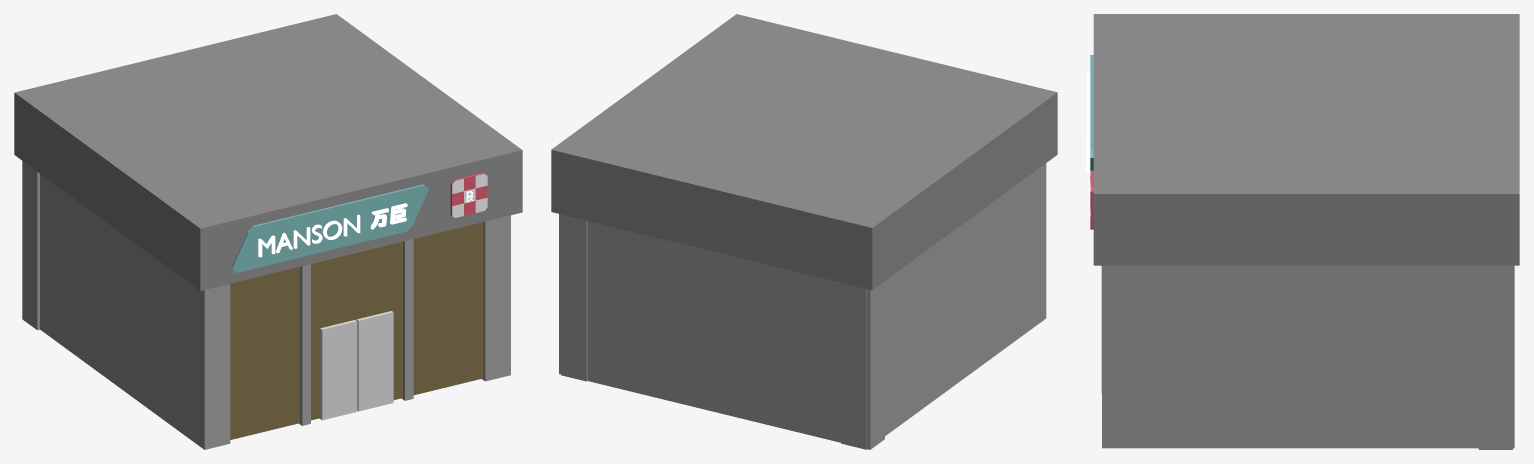
The picture shows the model from 3 angles, left to right: view 1: azimuth 30°, elevation 25°; view 2: azimuth 150°, elevation 25°; view 3: azimuth 270°, elevation 25°; orthographic projection. The views are drawn at different scales.
Visible parts, largest first — view 1: Top, Cube, Wall Side, Sign, Wall Side 2, Cube.001, Cube.004, Wall Back, Cube.003, Cube.002, Sign Text, Pharm Icon 2 (+2 smaller); view 2: Top, Wall Back, Wall Side, Wall Side 2; view 3: Top, Wall Side 2, Wall Back, Sign.
Part boxes in pixels (x1,y1,x2,y2): Top: [14, 14, 522, 290]; Cube: [230, 222, 483, 439]; Wall Side: [40, 174, 230, 449]; Sign: [231, 184, 428, 272]; Wall Side 2: [482, 215, 510, 381]; Cube.001: [319, 320, 357, 420]; Cube.004: [356, 311, 393, 411]; Wall Back: [22, 161, 39, 330]; Cube.003: [299, 264, 310, 425]; Cube.002: [402, 239, 413, 400]; Sign Text: [258, 214, 360, 257]; Pharm Icon 2: [452, 174, 487, 217]; Top: [551, 14, 1057, 290]; Wall Back: [559, 214, 884, 449]; Wall Side: [841, 163, 1046, 449]; Wall Side 2: [561, 214, 587, 381]; Top: [1093, 14, 1519, 265]; Wall Side 2: [1102, 265, 1514, 448]; Wall Back: [1478, 265, 1512, 449]; Sign: [1090, 55, 1093, 170].
Bounding box in the file's own units: 13.26 × 8.89 × 13.48.
